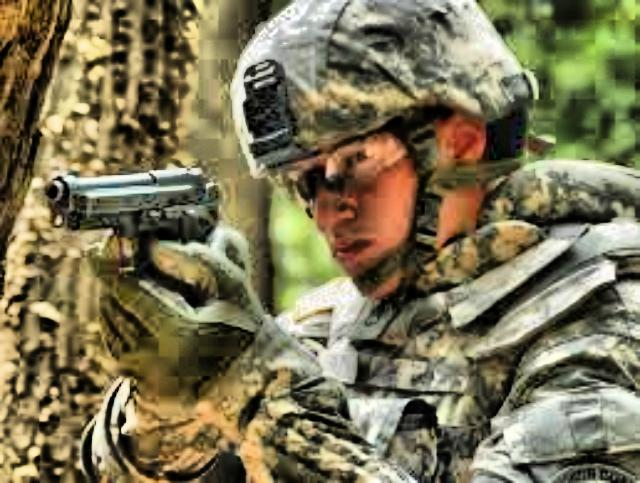pistol: (40, 147, 218, 305)
